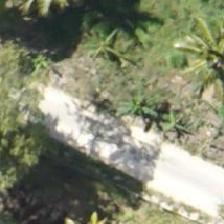Kelapa_Sawit: (168, 12, 224, 102)
